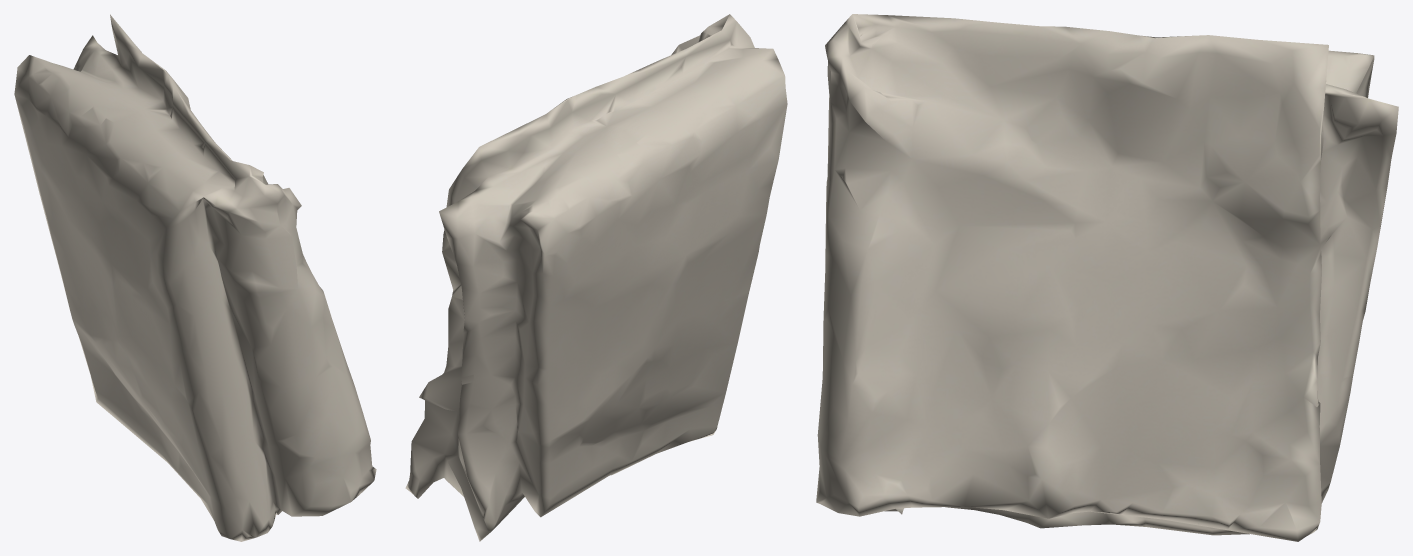
Rendered from item_silk.glb.
The picture shows the model from 3 angles, left to right: view 1: azimuth 30°, elevation 25°; view 2: azimuth 150°, elevation 25°; view 3: azimuth 270°, elevation 25°; orthographic projection. The views are drawn at different scales.
Visible parts, largest first — view 1: tripo_node_c20ae8ae-901c-46e3-91fa-af61e2bd2225; view 2: tripo_node_c20ae8ae-901c-46e3-91fa-af61e2bd2225; view 3: tripo_node_c20ae8ae-901c-46e3-91fa-af61e2bd2225.
Boxes of the visible parts, x1,y1,x2,y2 form: tripo_node_c20ae8ae-901c-46e3-91fa-af61e2bd2225: (14,14,376,541); tripo_node_c20ae8ae-901c-46e3-91fa-af61e2bd2225: (405,14,787,541); tripo_node_c20ae8ae-901c-46e3-91fa-af61e2bd2225: (816,14,1398,541).
Size of the model in its own units: 0.5043 by 0.9175 by 1.
Materials: 1 (1 with a texture image).
